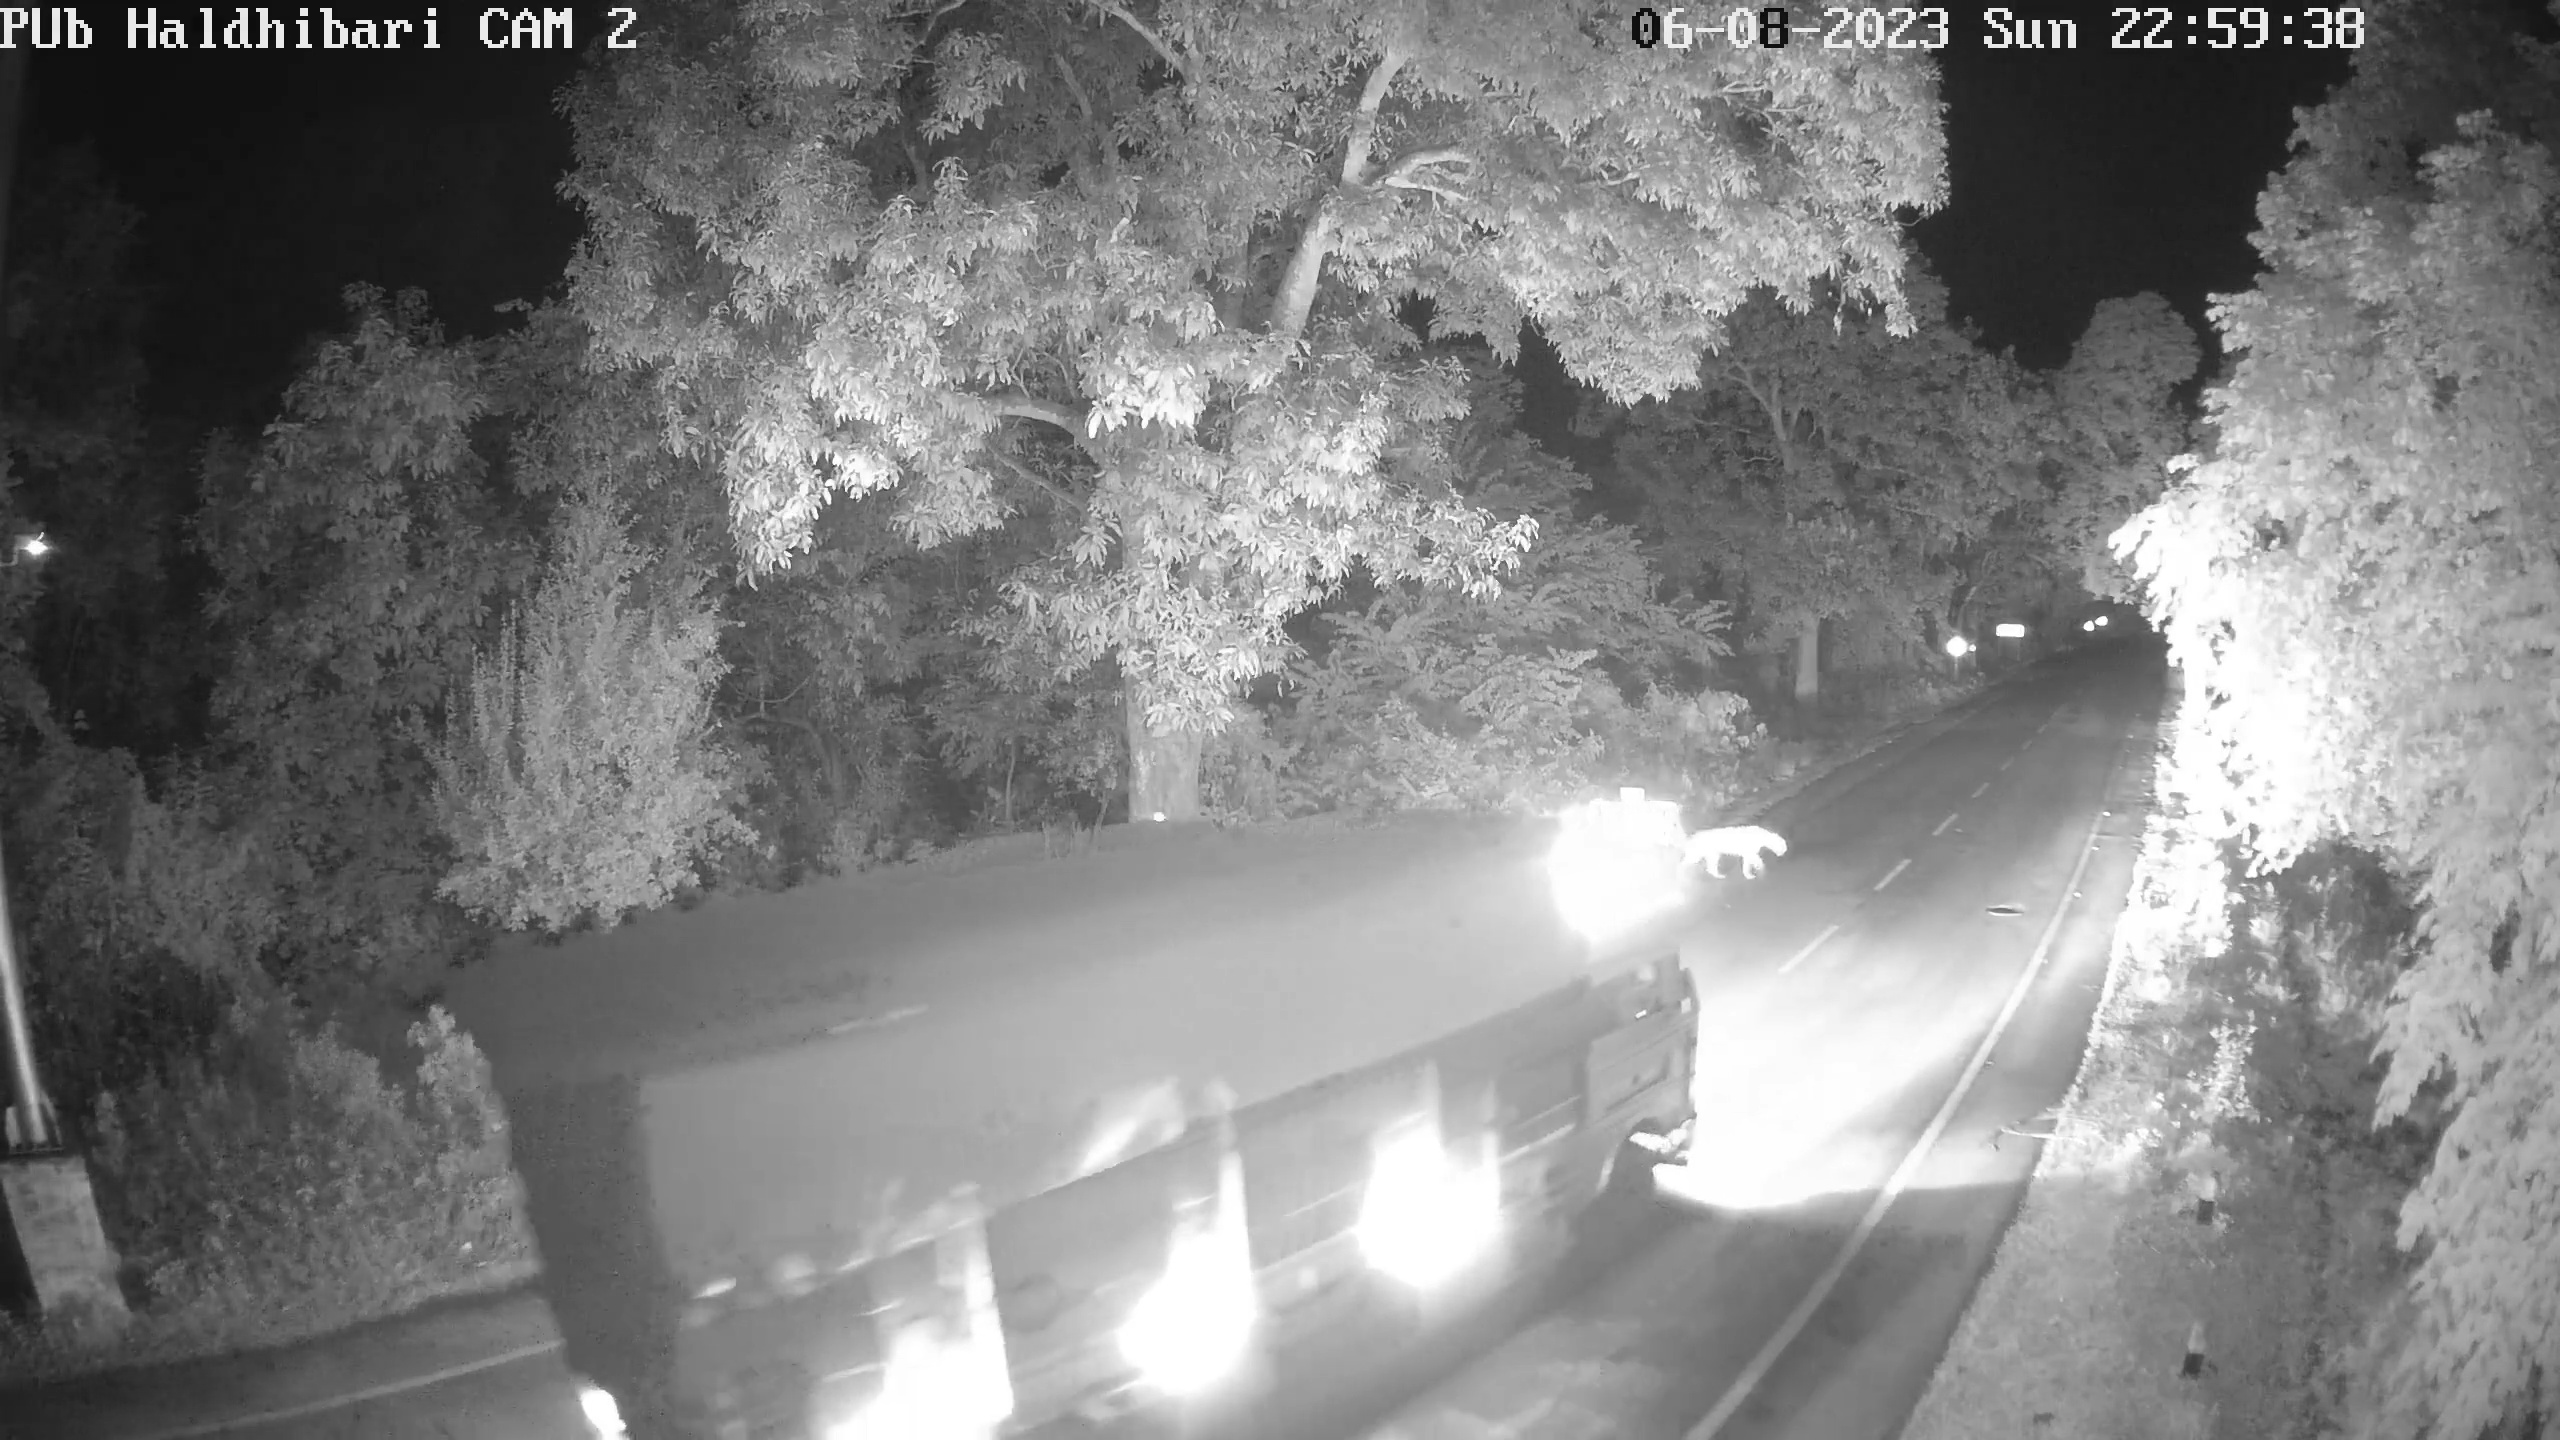tigers: (1681, 816, 1806, 895)
